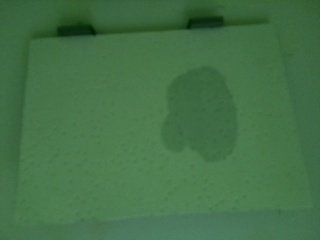Water_detected: (180, 78, 232, 156)
